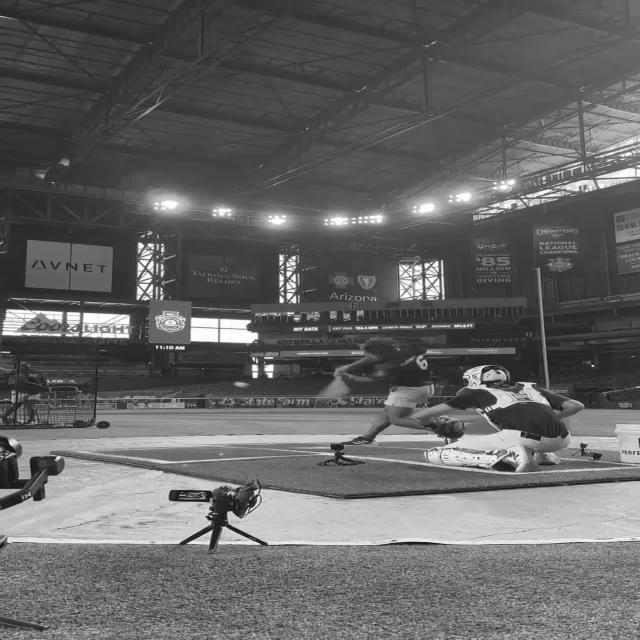baseball: (233, 381, 249, 389)
baseball_glove: (428, 414, 466, 438)
bat: (322, 376, 353, 398)
shoe: (490, 444, 538, 472), (533, 451, 561, 465), (340, 436, 376, 446)
